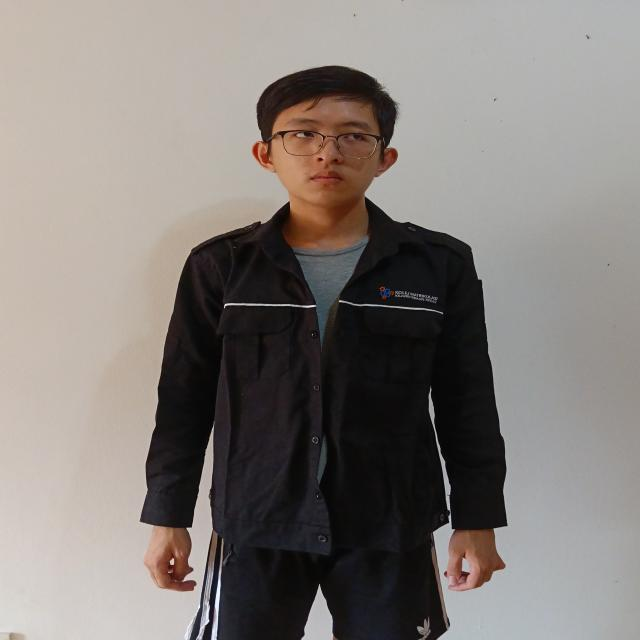person_with_labcoat: (141, 66, 506, 640)
